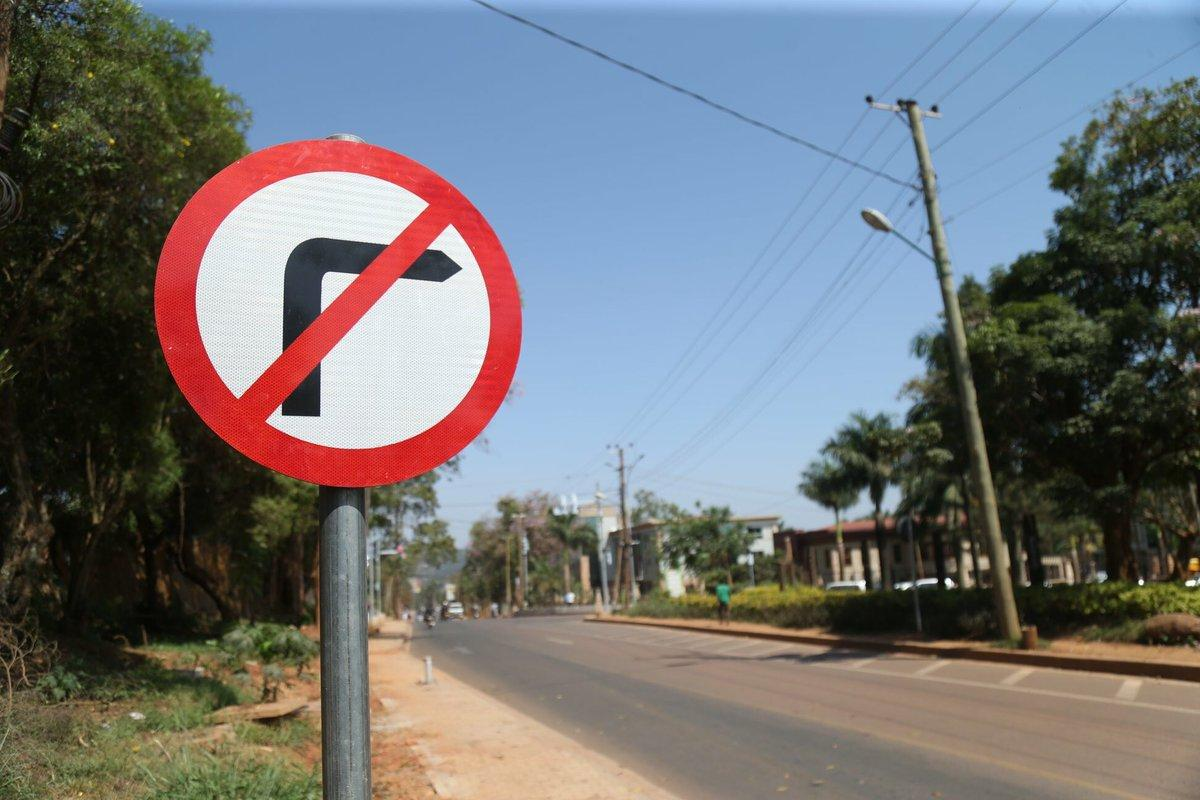no_right_turn: (152, 136, 524, 486)
